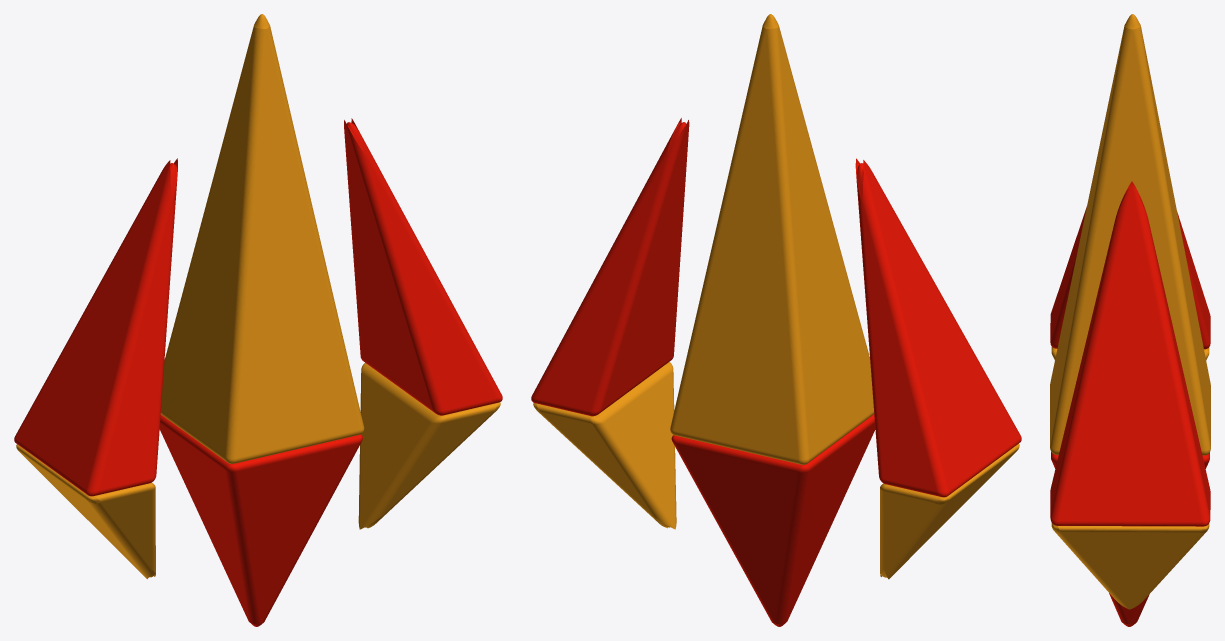
3 views of the same model, side by side, from view 1: azimuth 30°, elevation 25°; view 2: azimuth 150°, elevation 25°; view 3: azimuth 270°, elevation 25° (orthographic).
Visible parts, largest first — view 1: Cube, Cube.002, Cube.005, Cube.001, Cube.004, Cube.003; view 2: Cube, Cube.002, Cube.005, Cube.001, Cube.004, Cube.003; view 3: Cube.005, Cube, Cube.004, Cube.002, Cube.001.
Part boxes in pixels (box(x1,y1,x2,y2)): Cube: box(160, 14, 364, 463); Cube.002: box(14, 158, 177, 496); Cube.005: box(344, 118, 502, 415); Cube.001: box(159, 414, 362, 626); Cube.004: box(358, 363, 500, 529); Cube.003: box(16, 444, 155, 579); Cube: box(670, 14, 874, 464); Cube.002: box(855, 158, 1021, 497); Cube.005: box(531, 118, 689, 416); Cube.001: box(671, 414, 875, 626); Cube.004: box(533, 362, 676, 529); Cube.003: box(880, 443, 1019, 579); Cube.005: box(1050, 181, 1210, 526); Cube: box(1050, 14, 1210, 455); Cube.004: box(1051, 523, 1209, 609); Cube.002: box(1050, 206, 1210, 349); Cube.001: box(1051, 452, 1209, 626).
Size of the model in its own units: 5.94 by 8.32 by 1.97.
